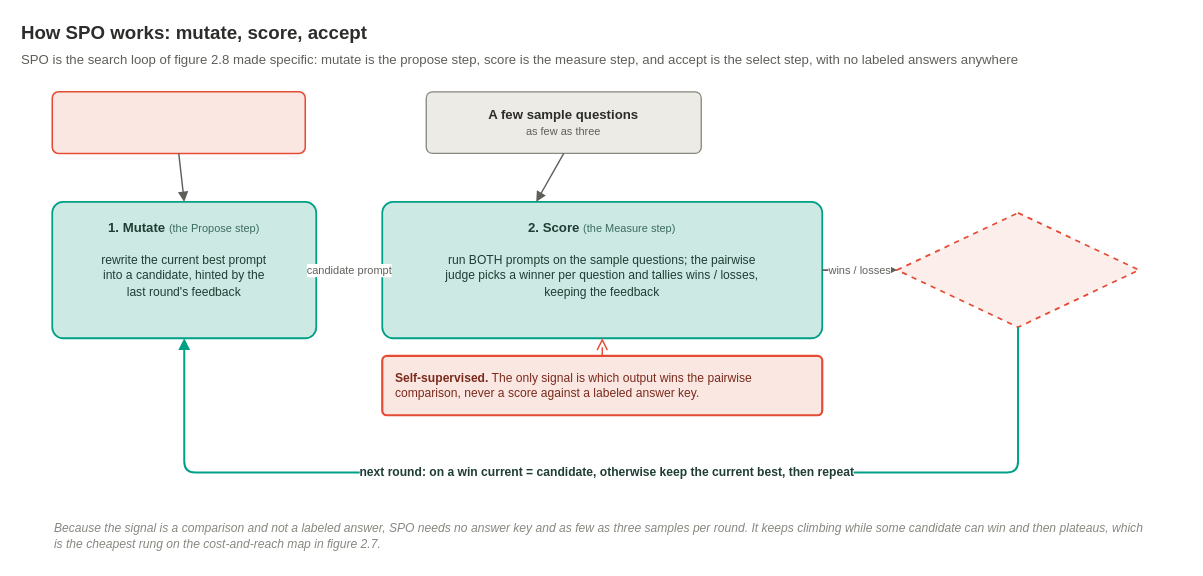
Some shapes in this 1203 by 576 pixel diagram are drawn without their labels. The shapes that lost their labels are listed below. From the top down, each one's centre as x and y in pixels, then its label:
(178,122): Current best prompt the one to beat (genesis on round 1)
(1017,269): 3. Accept on a win (the Select step) wins > losses?
